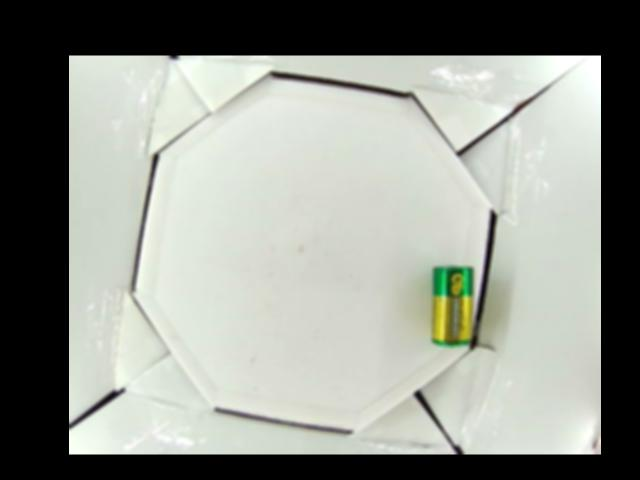Battery: (433, 266, 472, 348)
